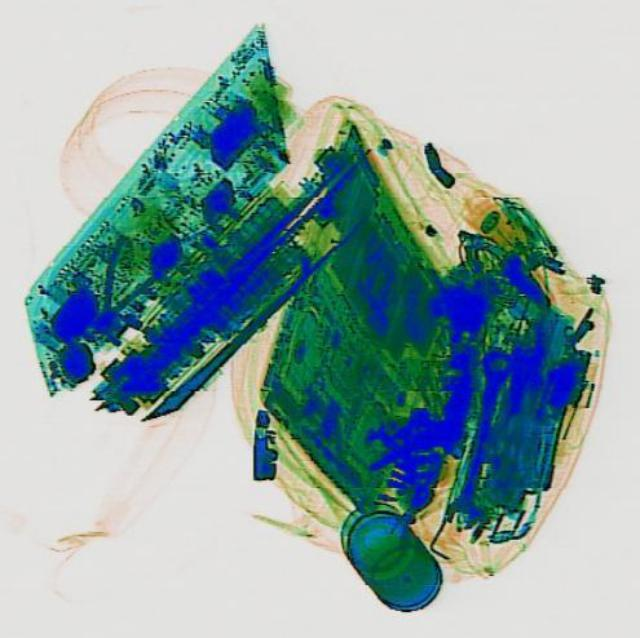Wrench: (436, 343, 520, 530)
